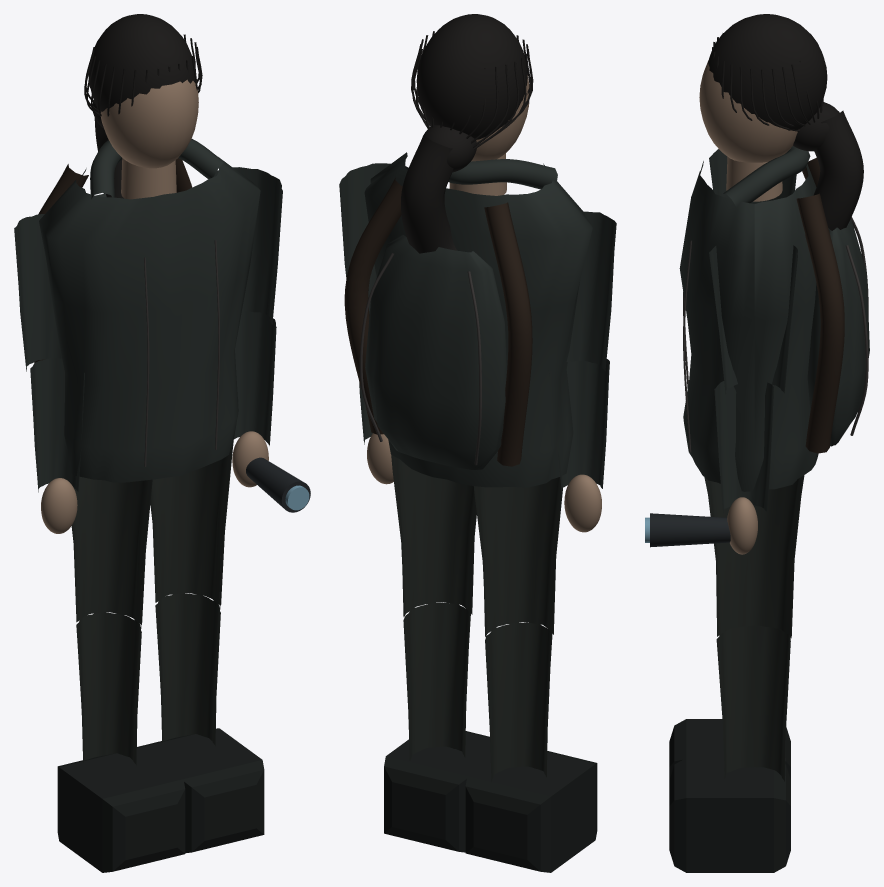
Rendered from survivor.glb.
3 renders of one model, left to right at view 1: azimuth 30°, elevation 25°; view 2: azimuth 150°, elevation 25°; view 3: azimuth 270°, elevation 25°, orthographic. The views are drawn at different scales.
Parts seen in each view (by area): view 1: body, shinL, shinR, head, armR, armL, legL, legR; view 2: body, shinL, head, shinR, armL, legL, legR, armR; view 3: body, shinR, head, armR, legR, shinL, armL.
Part boxes in pixels (x1,y1,x2,y2): body: (34, 139, 260, 482); shinL: (57, 612, 185, 872); shinR: (137, 593, 264, 853); head: (84, 14, 202, 199); armR: (213, 167, 310, 512); armL: (14, 214, 84, 533); legL: (71, 476, 152, 628); legR: (150, 431, 234, 611); body: (344, 152, 592, 487); shinL: (465, 622, 597, 872); head: (401, 14, 533, 253); shinR: (384, 602, 490, 852); armL: (548, 211, 616, 532); legL: (473, 477, 562, 641); legR: (391, 455, 476, 621); armR: (339, 163, 408, 484); body: (679, 146, 869, 491); shinR: (669, 626, 790, 872); head: (699, 14, 863, 230); armR: (645, 245, 797, 554); legR: (704, 475, 804, 638); shinL: (669, 625, 790, 779); armL: (709, 149, 796, 203).
Size of the model in its own units: 0.6128 by 1.85 by 0.4623.
